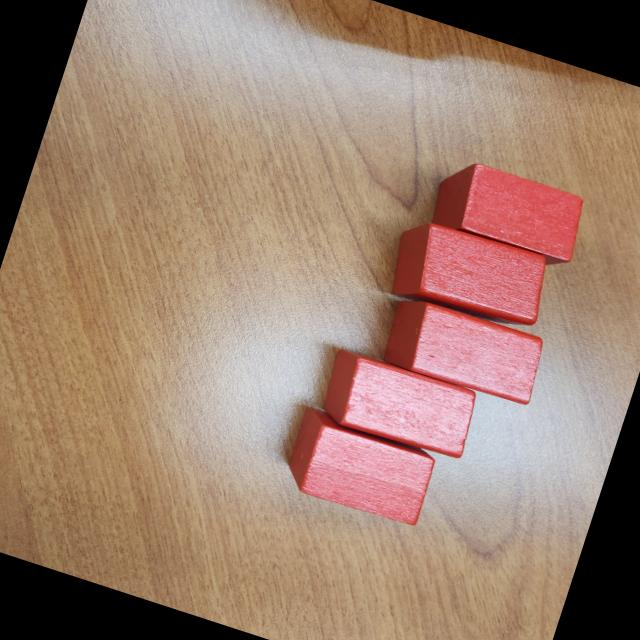red: (422, 153, 593, 275), (287, 407, 432, 527), (383, 302, 545, 406), (324, 350, 475, 460), (389, 223, 543, 323)
